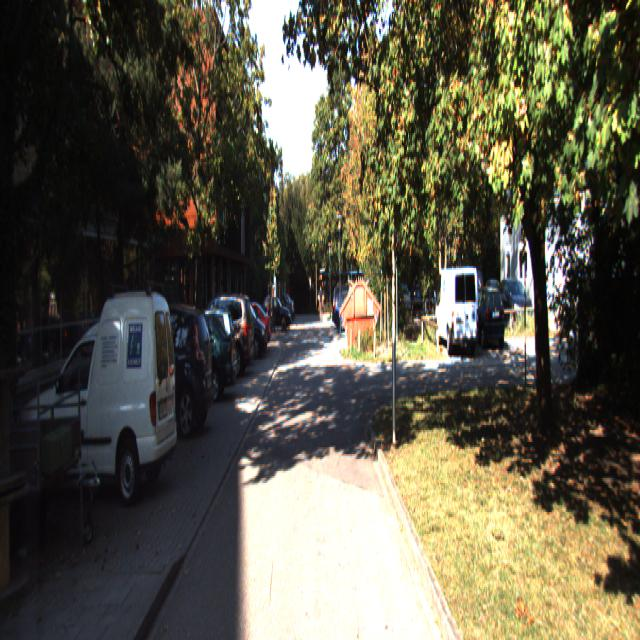Car: (24, 284, 180, 511), (104, 300, 216, 442), (156, 312, 238, 406), (182, 294, 255, 382), (175, 306, 238, 390), (433, 261, 480, 355), (465, 284, 506, 349), (334, 290, 369, 330)
